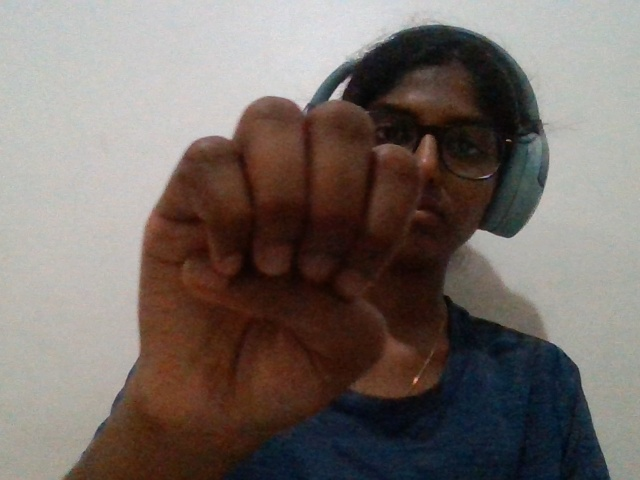E: (116, 64, 424, 480)
